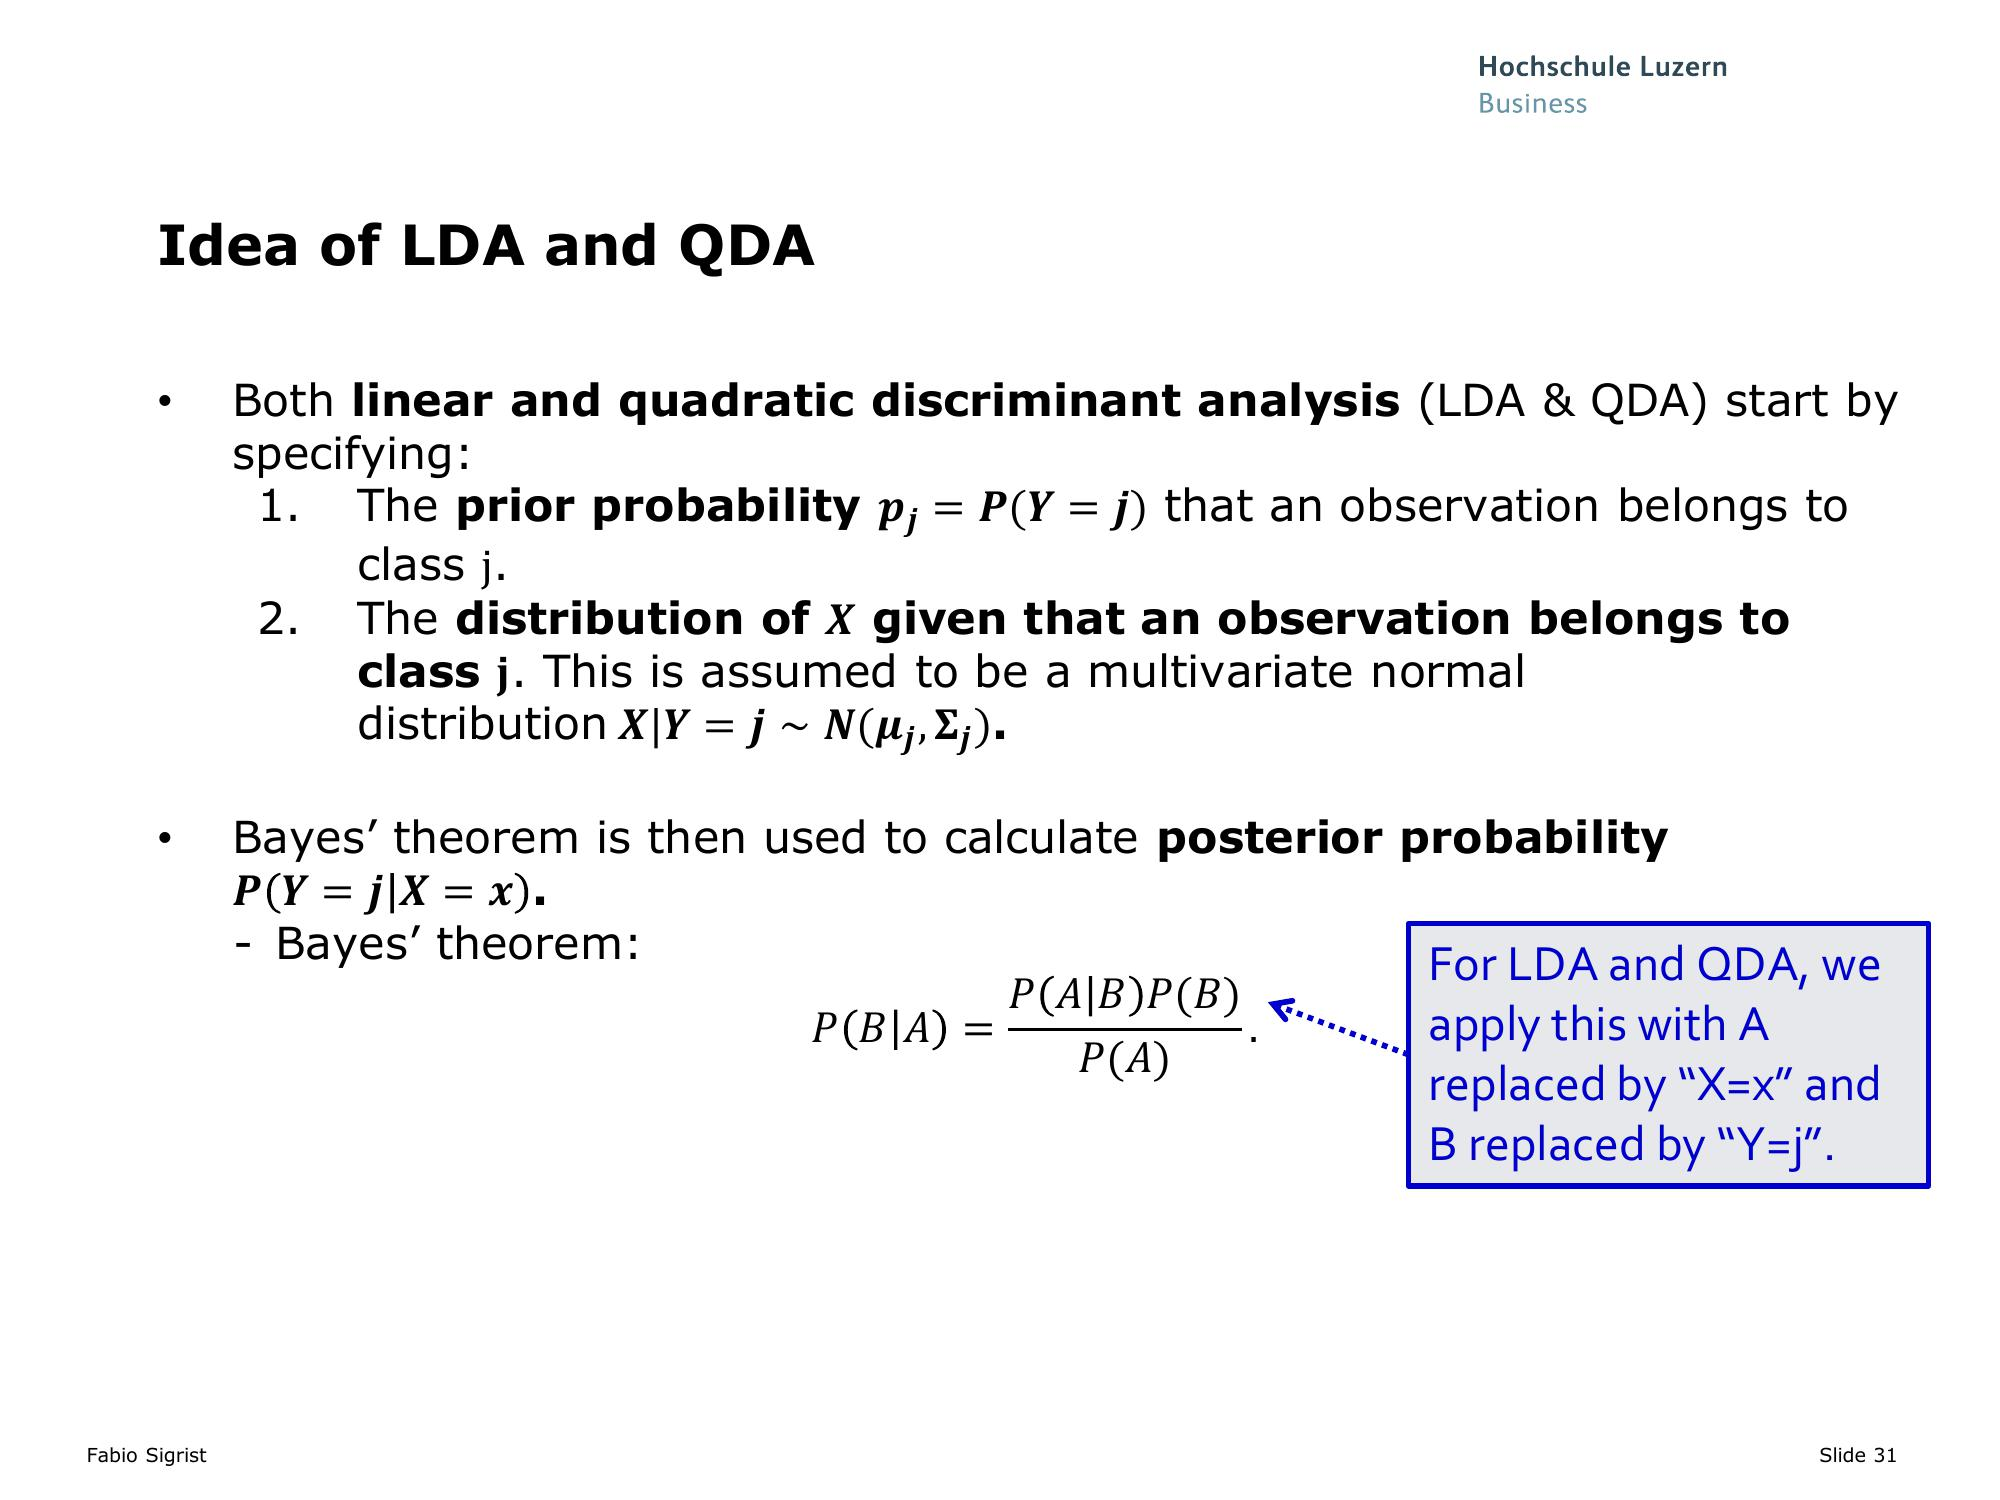Title: (139, 202, 838, 287)
